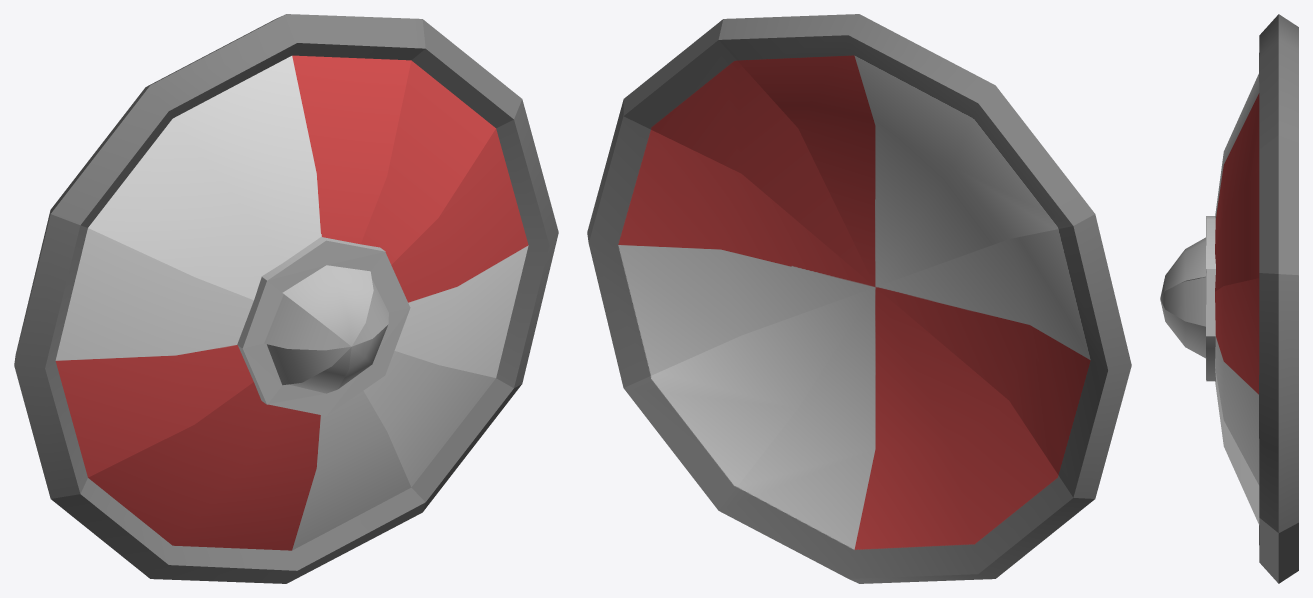
The model's file is Shield_broke.fbx.
The picture shows the model from 3 angles, left to right: view 1: azimuth 30°, elevation 25°; view 2: azimuth 150°, elevation 25°; view 3: azimuth 270°, elevation 25°; orthographic projection. The views are drawn at different scales.
Parts seen in each view (by area): view 1: Object011, Object015, Object012, Cylinder002, Object014, Object013, Object009, Object005, Object008, Object004, Object010, Object007; view 2: Object015, Object011, Cylinder002, Object012, Object013, Object014; view 3: Cylinder002, Object014, Object011, Object013, Object007, Object009, Object004.
Part boxes in pixels (x1,y1,x2,y2): Object011: [50, 14, 425, 299]; Object015: [51, 382, 425, 583]; Object012: [14, 210, 253, 498]; Cylinder002: [391, 99, 558, 387]; Object014: [361, 19, 521, 264]; Object013: [363, 351, 521, 511]; Object009: [262, 237, 385, 346]; Object005: [237, 277, 350, 350]; Object008: [238, 343, 351, 404]; Object004: [326, 308, 410, 415]; Object010: [268, 347, 351, 415]; Object007: [352, 252, 410, 346]; Object015: [718, 287, 1094, 583]; Object011: [718, 14, 1094, 287]; Cylinder002: [587, 100, 874, 387]; Object012: [876, 214, 1131, 498]; Object013: [623, 287, 874, 510]; Object014: [623, 19, 874, 286]; Cylinder002: [1215, 273, 1298, 532]; Object014: [1215, 135, 1298, 291]; Object011: [1215, 14, 1298, 250]; Object013: [1215, 367, 1298, 583]; Object007: [1160, 269, 1215, 336]; Object009: [1160, 216, 1215, 297]; Object004: [1160, 300, 1215, 381].
Bounding box in the file's own units: 33.77 × 33.77 × 8.19.
Materials: 1 (1 with a texture image).
